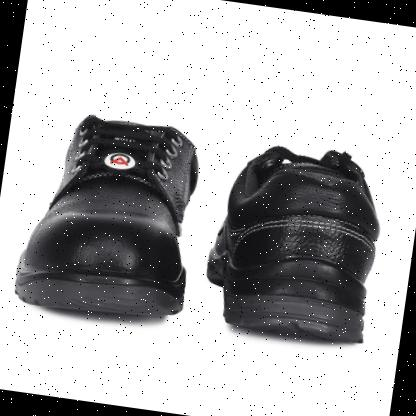bota: (7, 100, 214, 332), (193, 130, 395, 355)
